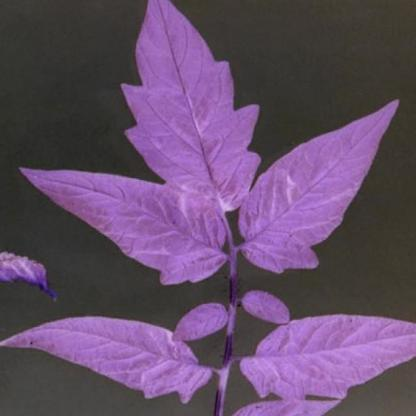tomato leaf: (117, 1, 257, 214), (240, 93, 402, 266), (21, 166, 231, 282), (4, 309, 222, 397), (238, 309, 409, 400)
